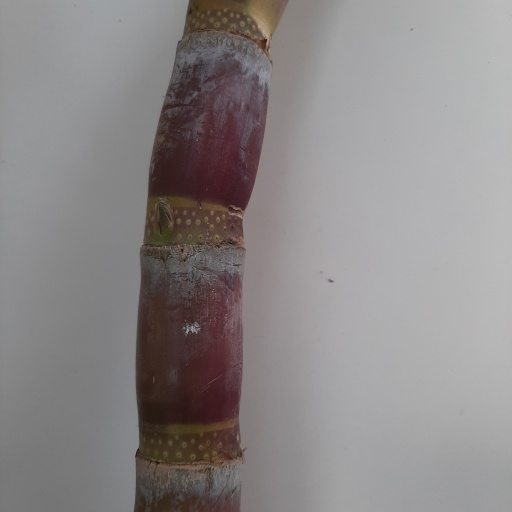Bud: (148, 201, 174, 237)
